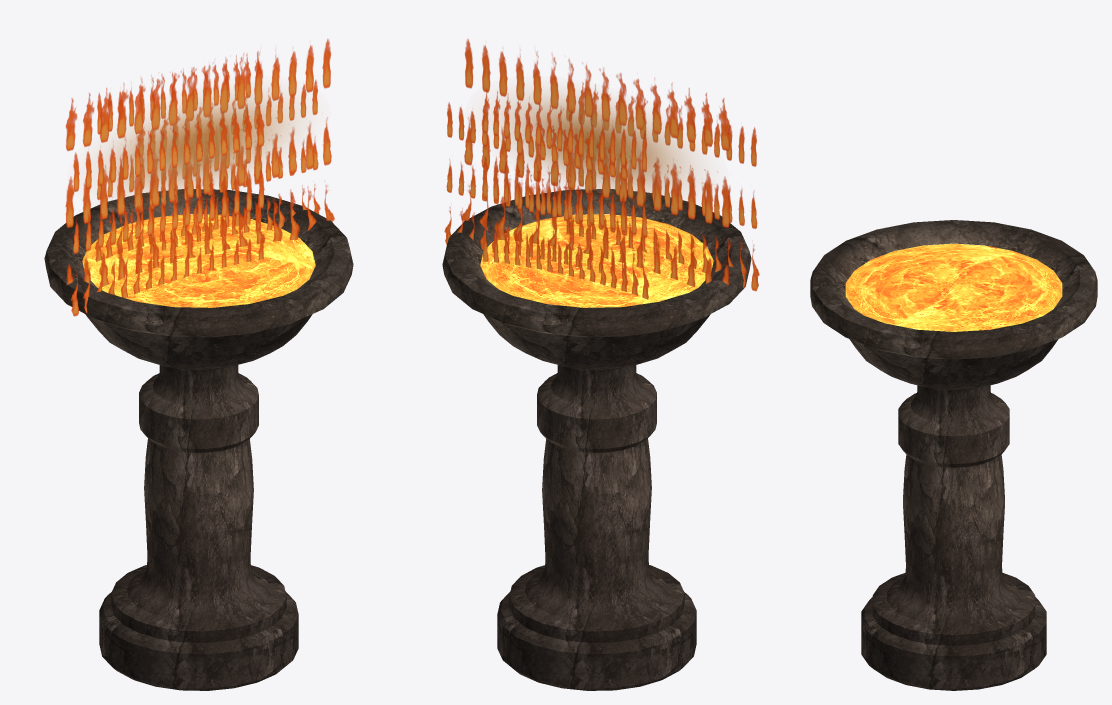
File: mm7_deco_dec62.glb
3 views of the same model, side by side, from view 1: azimuth 30°, elevation 25°; view 2: azimuth 150°, elevation 25°; view 3: azimuth 270°, elevation 25° (orthographic). The views are drawn at different scales.
Parts seen in each view (by area): view 1: Beacon; view 2: Beacon; view 3: Beacon.
Part boxes in pixels (<box>): Beacon: <box>44,39,353,690</box>; Beacon: <box>442,39,759,690</box>; Beacon: <box>810,220,1097,690</box>.
Bounding box in the file's own units: 1.52 × 2.33 × 1.09.
7 materials, 7 textured.
